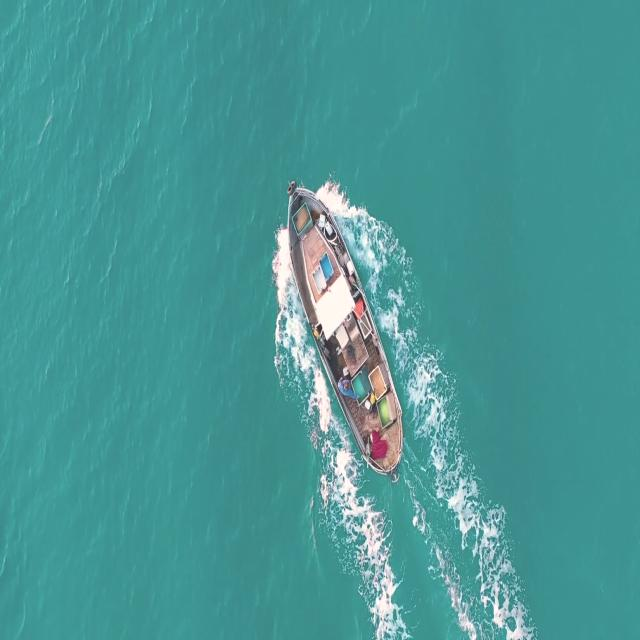ship: (279, 181, 406, 474)
